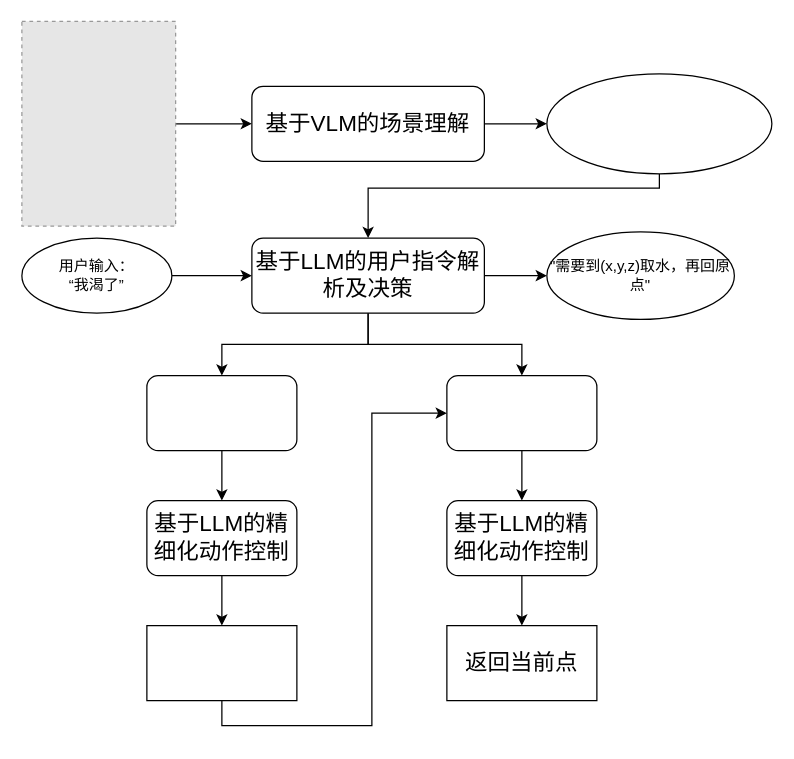
Image size: 794x759. Some labels were removed from this diagram. Grey dashed boxes stand in for pictures. Here are the shapes that lost their labels. From the top down, the centre of each, then its label:
point 659,123: “一个卧室，有四个椅子，一个桌子，桌子上有一篇矿泉水(x,y,z)和一个抹布(a,b,c)”
point 221,412: 路径规划当前点到(x,y,z)点
point 521,412: 路径规(x,y,z)点到当前点
point 221,662: 到达目标点
